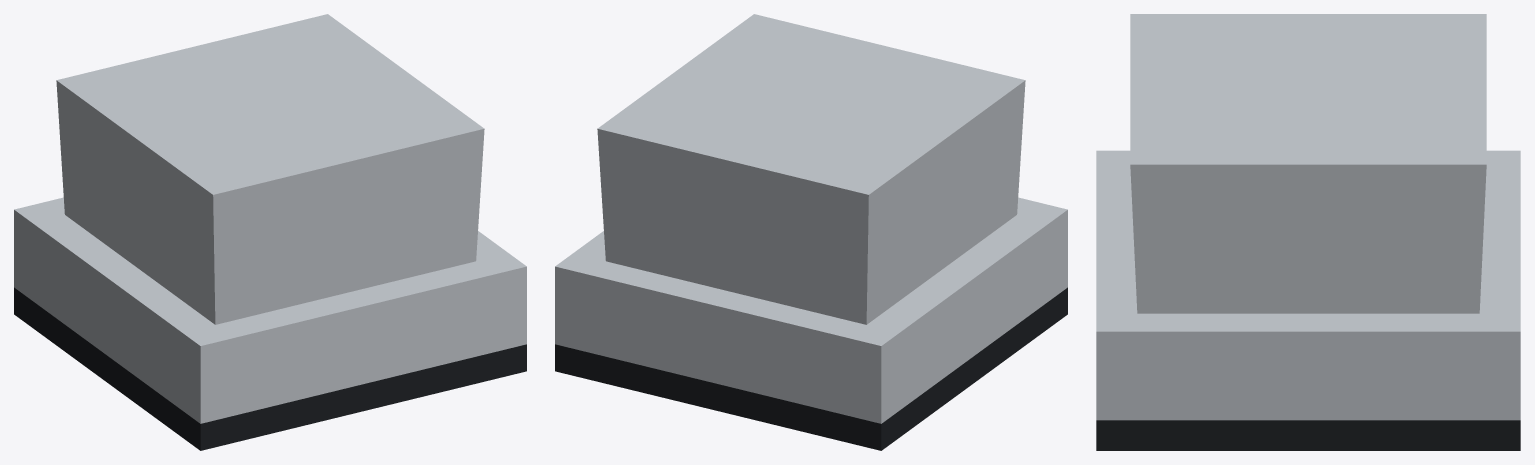
The model's file is npc_crew_foot.fbx.
3 renders of one model, left to right at view 1: azimuth 30°, elevation 25°; view 2: azimuth 150°, elevation 25°; view 3: azimuth 270°, elevation 25°, orthographic. The views are drawn at different scales.
Visible parts, largest first — view 1: npc_crew_foot; view 2: npc_crew_foot; view 3: npc_crew_foot.
Part boxes in pixels (left/top/right/bottom): npc_crew_foot: left=14, top=14, right=526, bottom=450; npc_crew_foot: left=555, top=14, right=1067, bottom=450; npc_crew_foot: left=1096, top=14, right=1520, bottom=450.
Bounding box in the file's own units: 101 × 70.5 × 100.
